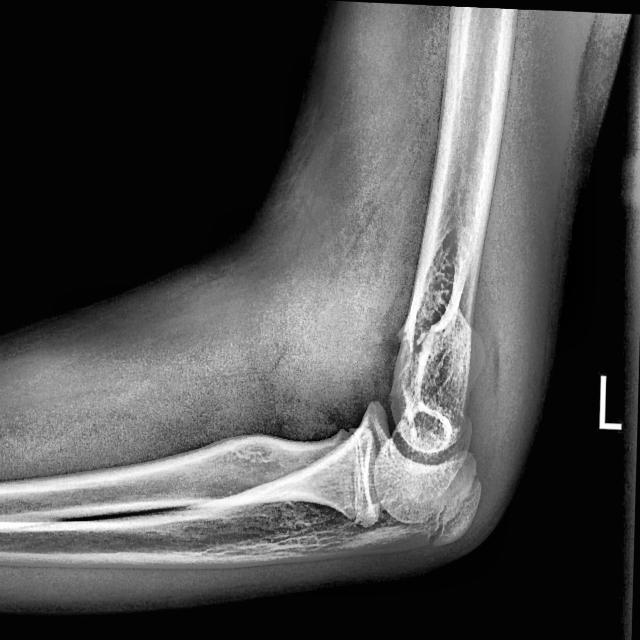elbow positive: (411, 467, 492, 562)
